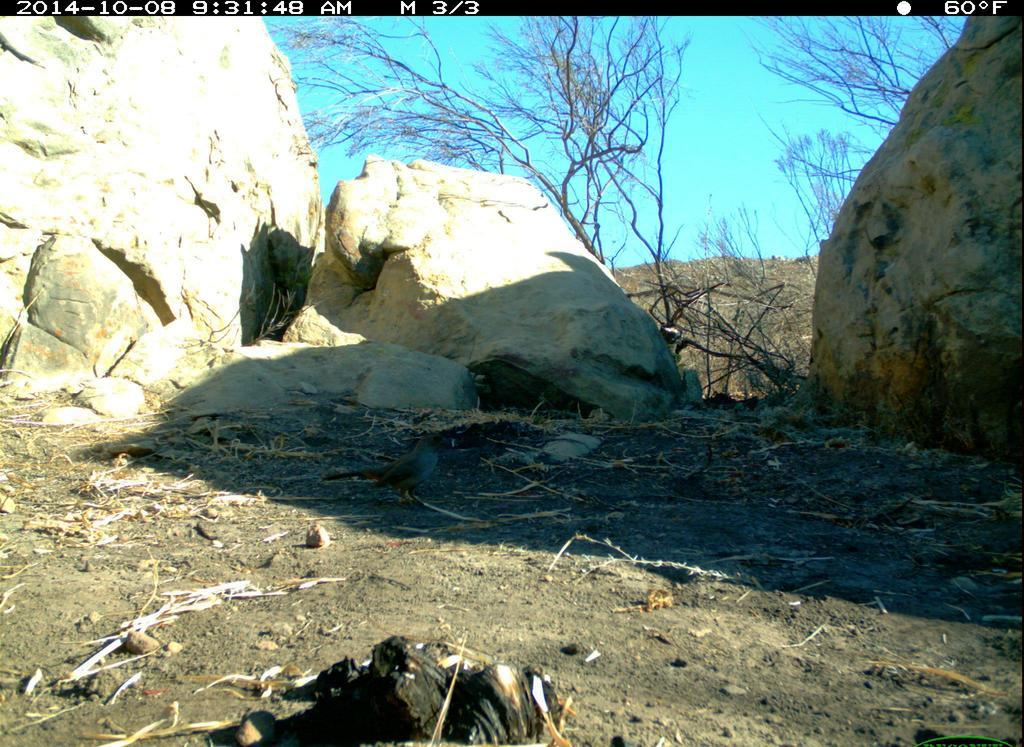bird: (319, 420, 465, 514)
